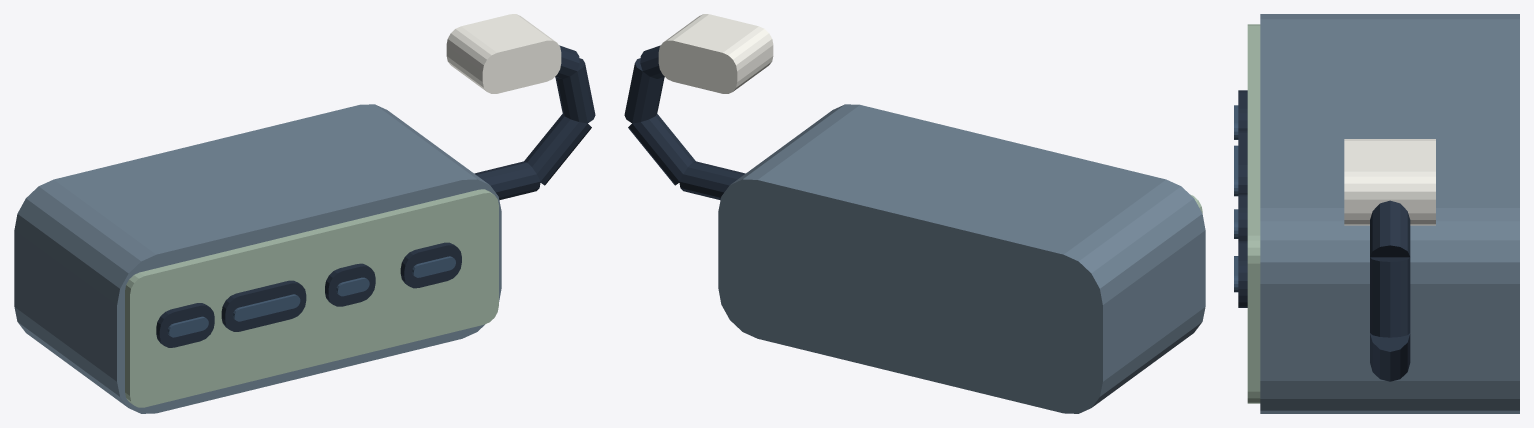
The model's file is adapterhub.glb.
3 views of the same model, side by side, from view 1: azimuth 30°, elevation 25°; view 2: azimuth 150°, elevation 25°; view 3: azimuth 270°, elevation 25° (orthographic). The views are drawn at different scales.
Visible parts, largest first — view 1: shell, face, plug, port 1, cable1, port 3, cable2, cable0, port 0, port 2, port tongue 1, port tongue 3 (+2 smaller); view 2: shell, plug, cable1, cable2, cable0, cable3; view 3: shell, plug, face, cable2, cable3, cable1, port 3, port 1, port 2, port 0.
Boxes of the visible parts, bbox=[...] form: shell: bbox=[14, 104, 501, 413]; face: bbox=[125, 189, 498, 407]; plug: bbox=[446, 14, 561, 93]; port 1: bbox=[221, 280, 306, 331]; cable1: bbox=[524, 114, 591, 185]; port 3: bbox=[400, 242, 461, 288]; cable2: bbox=[555, 58, 595, 123]; cable0: bbox=[474, 161, 540, 200]; port 0: bbox=[156, 303, 214, 347]; port 2: bbox=[325, 263, 375, 306]; port tongue 1: bbox=[233, 294, 300, 321]; port tongue 3: bbox=[412, 256, 455, 277]; shell: bbox=[718, 104, 1205, 413]; plug: bbox=[658, 14, 773, 93]; cable1: bbox=[628, 114, 695, 185]; cable2: bbox=[624, 58, 664, 123]; cable0: bbox=[679, 161, 745, 200]; cable3: bbox=[640, 45, 664, 78]; shell: bbox=[1260, 14, 1519, 413]; plug: bbox=[1344, 139, 1435, 225]; face: bbox=[1247, 24, 1260, 403]; cable2: bbox=[1370, 257, 1410, 337]; cable3: bbox=[1370, 200, 1410, 257]; cable1: bbox=[1370, 333, 1410, 381]; port 3: bbox=[1238, 241, 1247, 307]; port 1: bbox=[1238, 130, 1247, 194]; port 2: bbox=[1238, 194, 1247, 241]; port 0: bbox=[1238, 90, 1247, 130].
Size of the model in its own units: 2.02 by 0.895 by 0.749.
